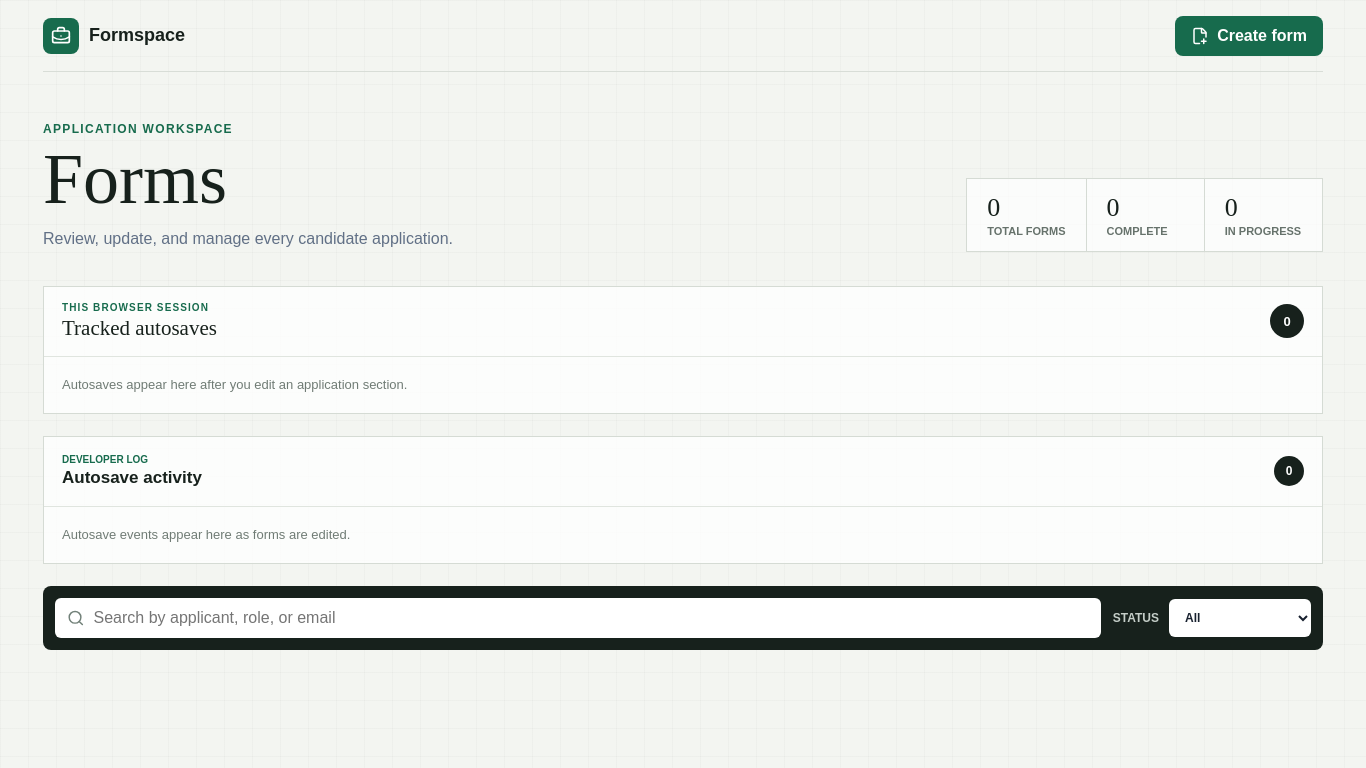
Test: FormsDashboard › reports create failures
Click the button "Create form".
click(1249, 36)  # box [1175, 16, 1323, 56]
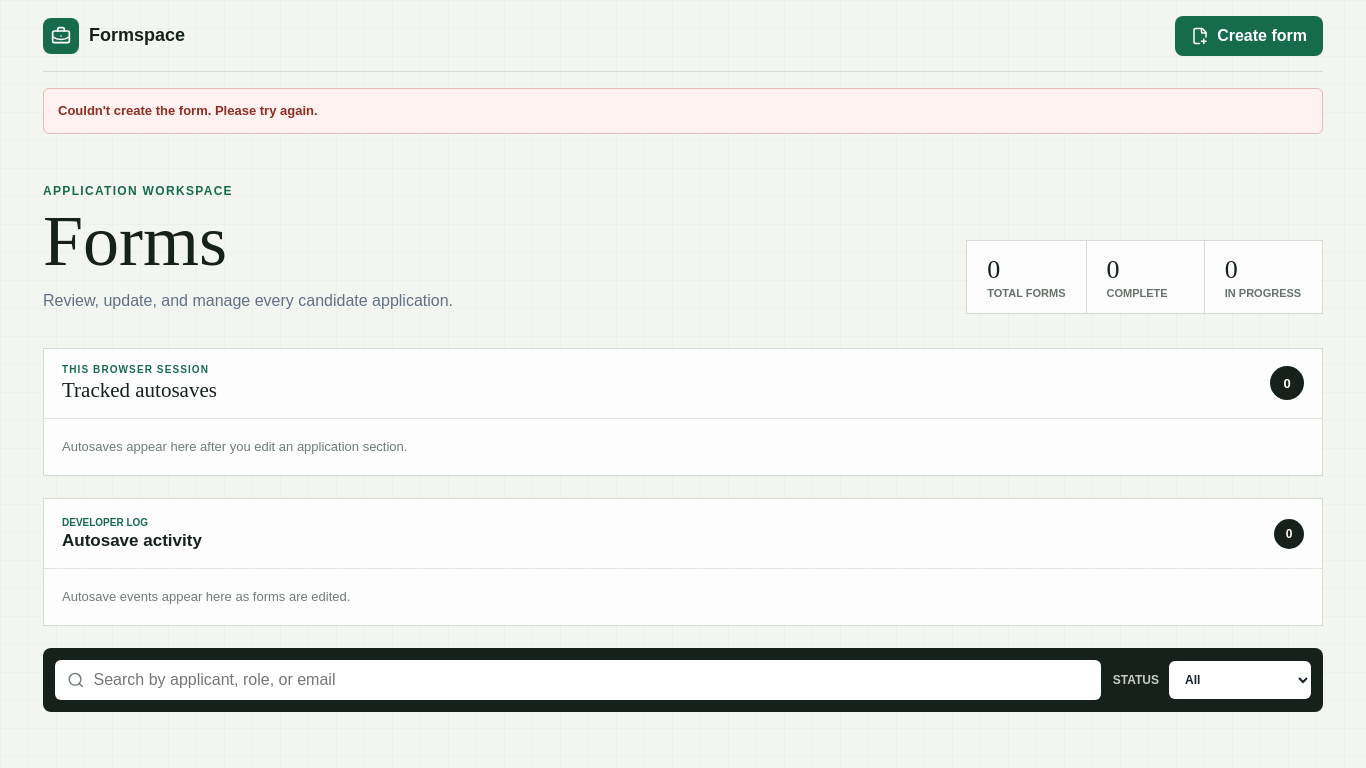
Expected: the message shows "Couldn't create the form", [58, 103, 318, 118]
